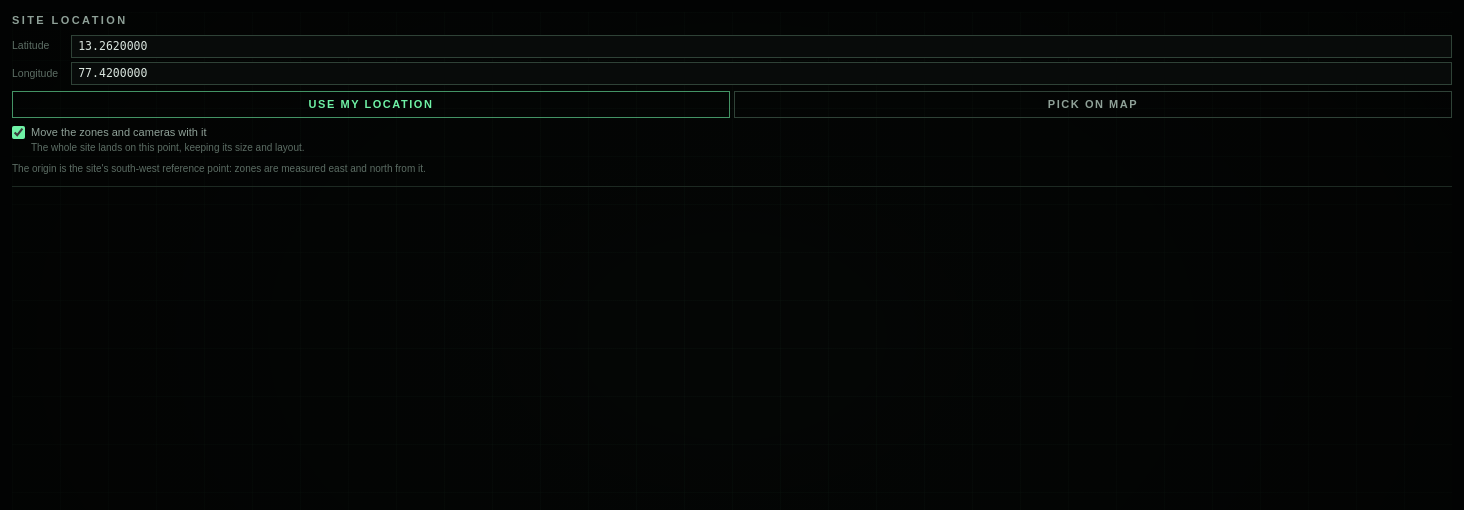
Test: site location › uses this device's position
Step 1. Click the button "Use my location" → [371, 104], box [12, 91, 730, 118]
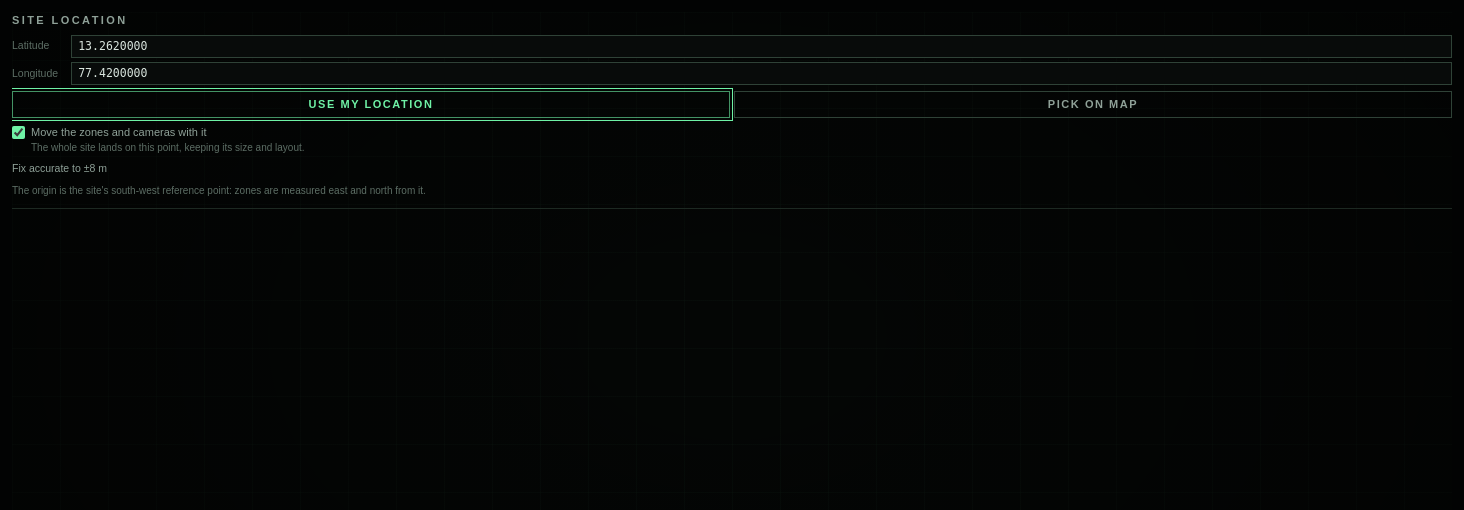
Result: the text "Fix accurate to ±8 m" is shown at [12, 162, 107, 174]
